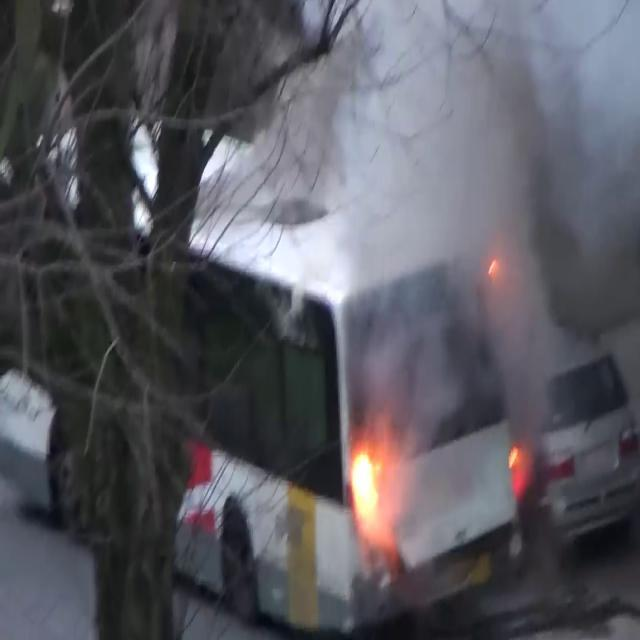Fire: (348, 425, 389, 544)
Smoke: (338, 0, 640, 494)
